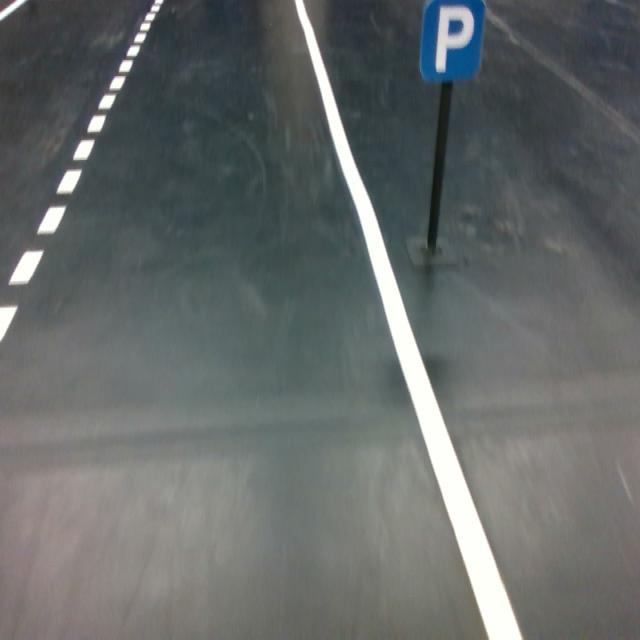parking-sign: (418, 0, 486, 84)
